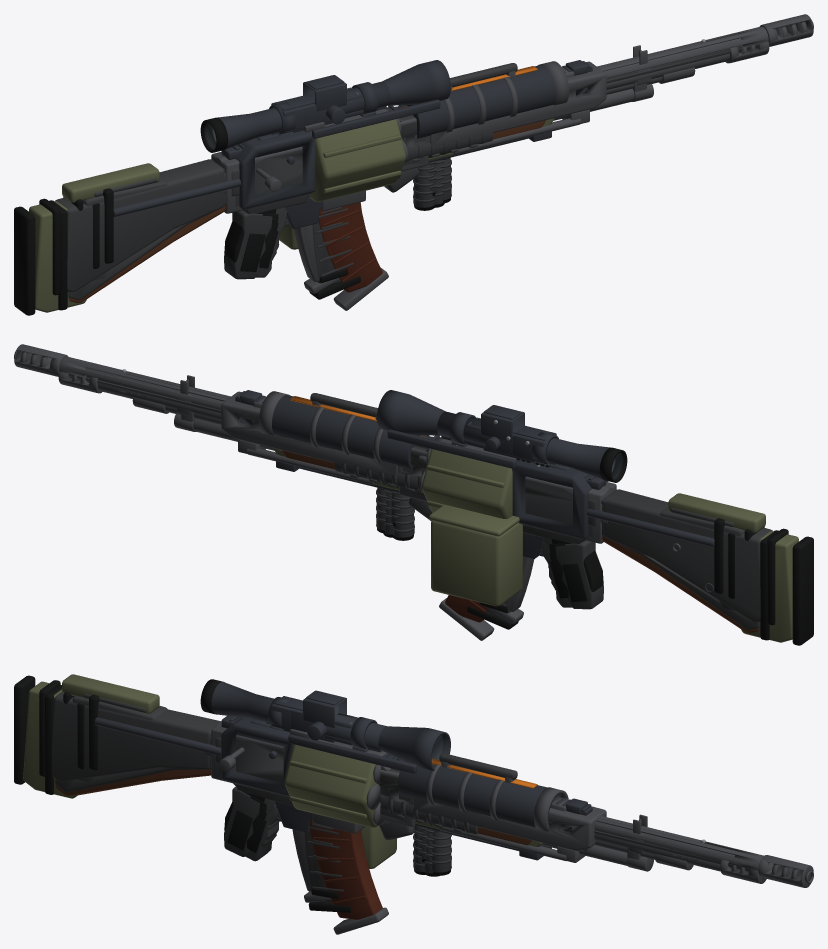
Rendered from weapons.glb.
The picture shows the model from 3 angles, top to bottom: view 1: azimuth 30°, elevation 25°; view 2: azimuth 150°, elevation 25°; view 3: azimuth 330°, elevation 25°; orthographic projection.
Visible parts, largest first — view 1: W_launcher_Mesh, W_bulwark_Mesh, W_longshot_Mesh, W_kodiak_Mesh, W_Rifle_Mesh, W_breacher_Mesh, W_hornet_Mesh, W_viper_Mesh, W_magnum_Mesh; view 2: W_bulwark_Mesh, W_launcher_Mesh, W_longshot_Mesh, W_Rifle_Mesh, W_breacher_Mesh, W_kodiak_Mesh, W_hornet_Mesh, W_viper_Mesh, W_magnum_Mesh; view 3: W_bulwark_Mesh, W_launcher_Mesh, W_longshot_Mesh, W_kodiak_Mesh, W_Rifle_Mesh, W_breacher_Mesh, W_hornet_Mesh, W_viper_Mesh.
Part boxes in pixels (<box>): W_launcher_Mesh: <box>103,61,568,279</box>; W_bulwark_Mesh: <box>39,41,769,295</box>; W_longshot_Mesh: <box>14,14,813,315</box>; W_kodiak_Mesh: <box>68,45,695,310</box>; W_Rifle_Mesh: <box>63,60,709,299</box>; W_breacher_Mesh: <box>49,39,705,310</box>; W_hornet_Mesh: <box>235,93,429,282</box>; W_viper_Mesh: <box>92,136,477,293</box>; W_magnum_Mesh: <box>224,209,276,261</box>; W_bulwark_Mesh: <box>58,371,788,625</box>; W_launcher_Mesh: <box>259,391,724,609</box>; W_longshot_Mesh: <box>14,344,813,645</box>; W_Rifle_Mesh: <box>118,390,764,629</box>; W_breacher_Mesh: <box>122,369,778,640</box>; W_kodiak_Mesh: <box>132,375,759,640</box>; W_hornet_Mesh: <box>398,423,592,612</box>; W_viper_Mesh: <box>350,455,735,623</box>; W_magnum_Mesh: <box>551,539,603,591</box>; W_bulwark_Mesh: <box>39,680,766,883</box>; W_launcher_Mesh: <box>89,694,568,862</box>; W_longshot_Mesh: <box>14,674,813,887</box>; W_kodiak_Mesh: <box>55,759,693,934</box>; W_Rifle_Mesh: <box>63,692,702,912</box>; W_breacher_Mesh: <box>45,685,705,871</box>; W_hornet_Mesh: <box>219,707,414,898</box>; W_viper_Mesh: <box>77,703,461,902</box>.
Size of the model in its own units: 1.25 by 0.3465 by 0.156.
